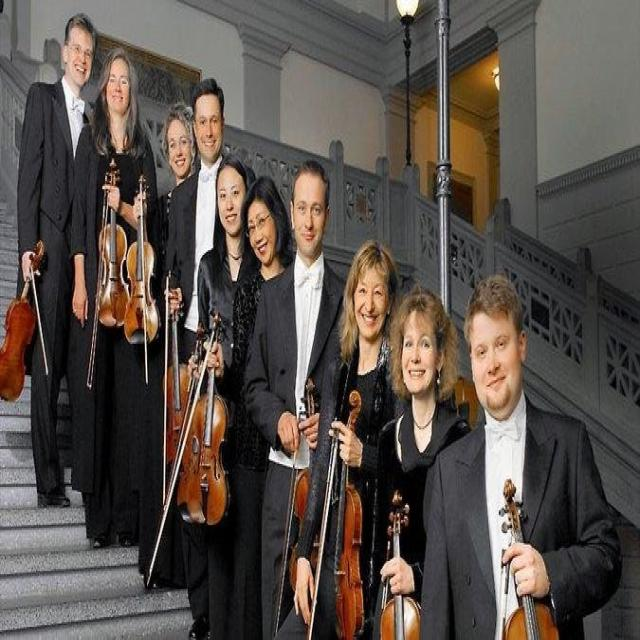violin: (497, 470, 558, 638), (188, 313, 232, 528), (334, 384, 371, 638), (290, 375, 325, 605), (0, 239, 47, 404), (378, 487, 425, 638), (91, 157, 129, 330), (124, 175, 162, 348), (173, 327, 206, 519), (162, 286, 193, 473)
